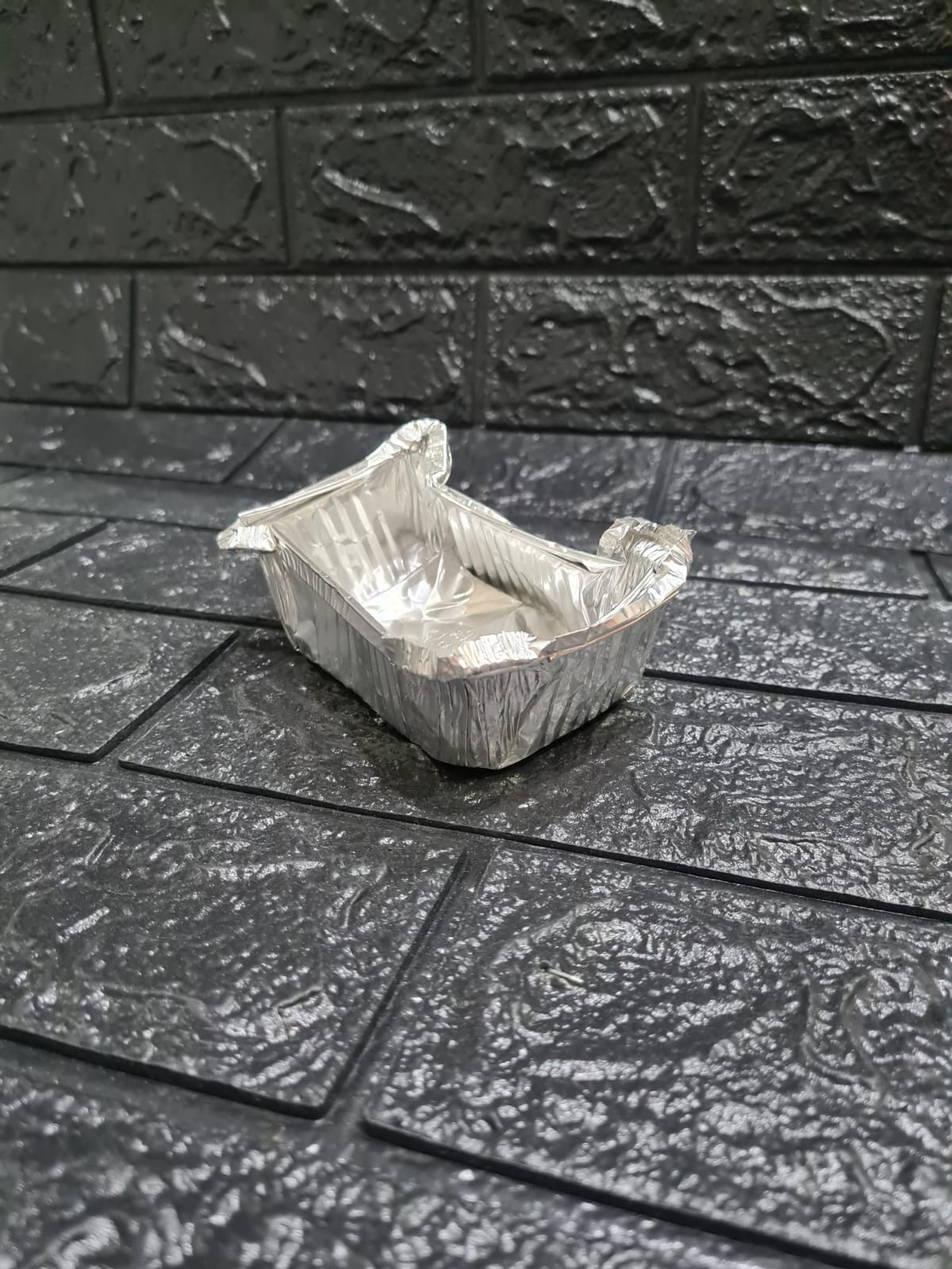Metal: (202, 413, 717, 746)
